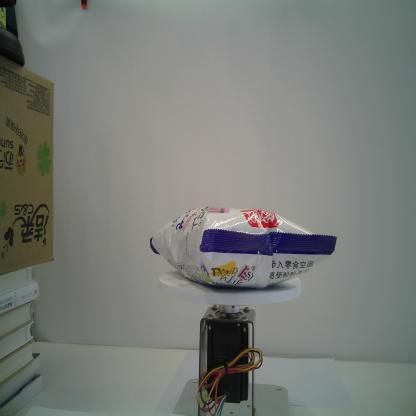Puffed Food: (148, 205, 336, 290)
